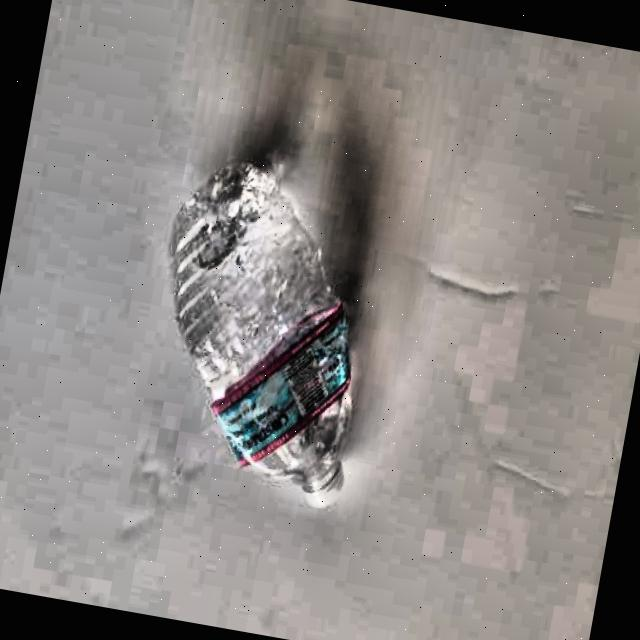plastic: (132, 153, 396, 514)
